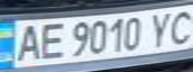0: (121, 13, 148, 51), (87, 17, 109, 55)
1: (106, 16, 127, 52)
9: (66, 18, 90, 57)
A: (9, 21, 45, 63)
C: (163, 7, 193, 45)
E: (33, 20, 66, 61)
Y: (145, 9, 175, 48)
